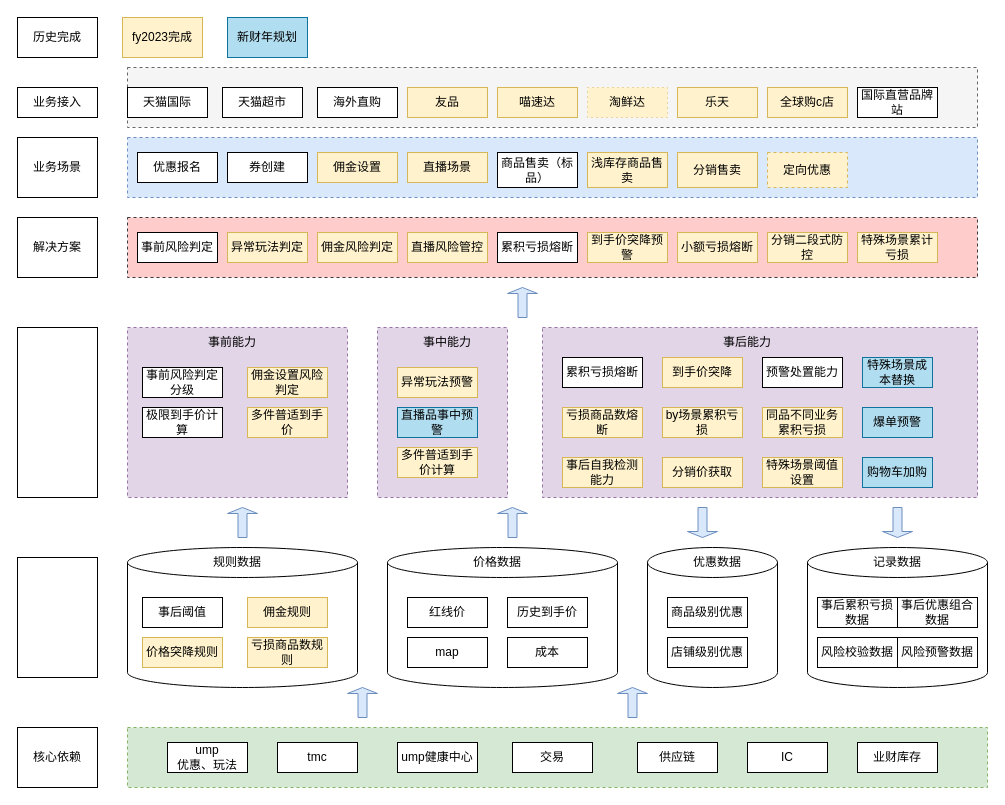
Some shapes in this 1005 by 805 pixel diagram are drawn without their labels. The box of each missing label's shape, as (x1, y1, x2, y2) in pixels:
基础功能&数据: (16, 556, 98, 678)
能力: (16, 326, 98, 498)
